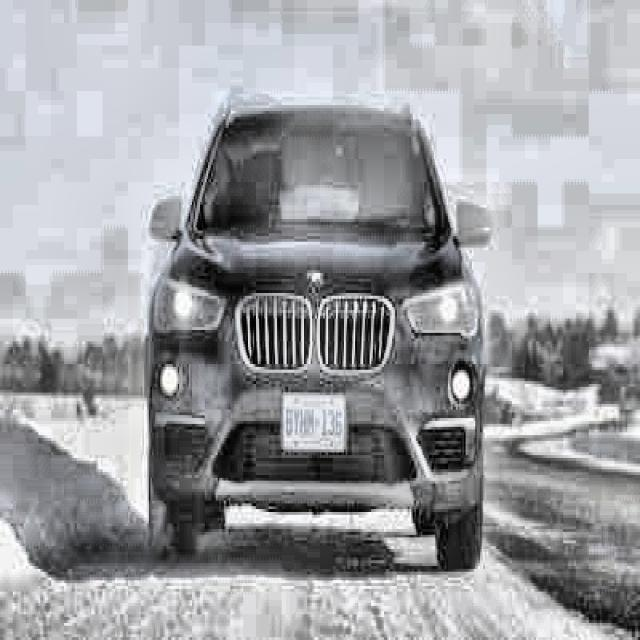license_plate: (279, 392, 347, 454)
